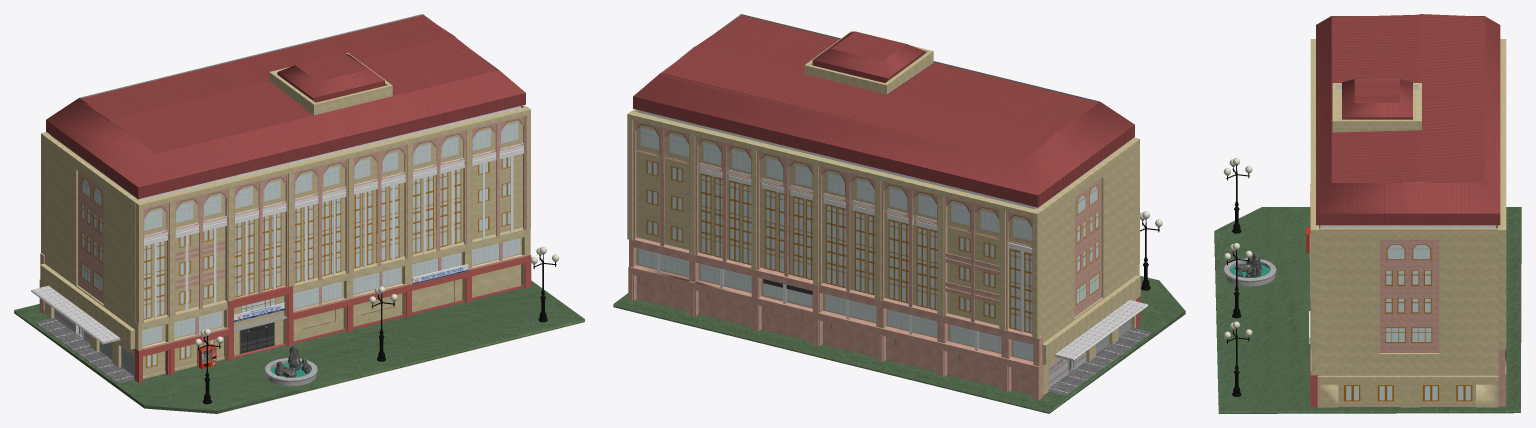
3 views of the same model, side by side, from view 1: azimuth 30°, elevation 25°; view 2: azimuth 150°, elevation 25°; view 3: azimuth 270°, elevation 25° (orthographic). The views are drawn at different scales.
Visible parts, largest first — view 1: A3; view 2: A3; view 3: A3.
Part boxes in pixels (x1,y1,x2,y2): A3: (14,14,584,413); A3: (613,14,1185,413); A3: (1214,14,1521,413).
Size of the model in its own units: 5615 by 3034 by 3551.
Materials: 2 (2 with a texture image).
